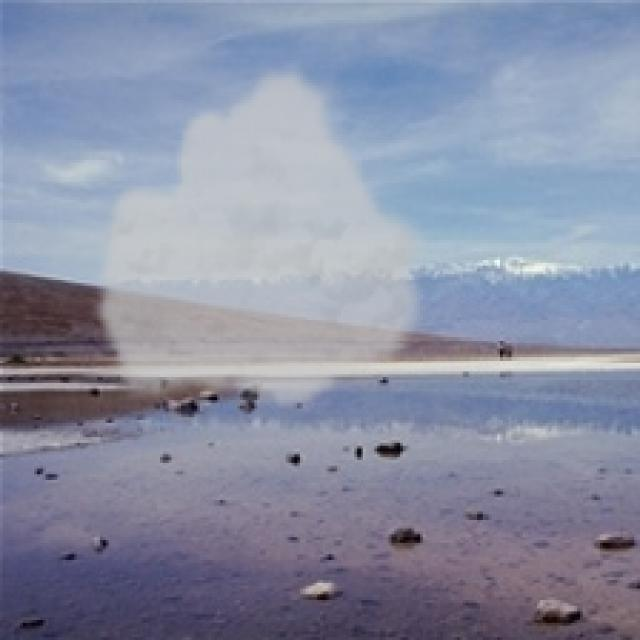Smoke: (92, 57, 434, 412)
